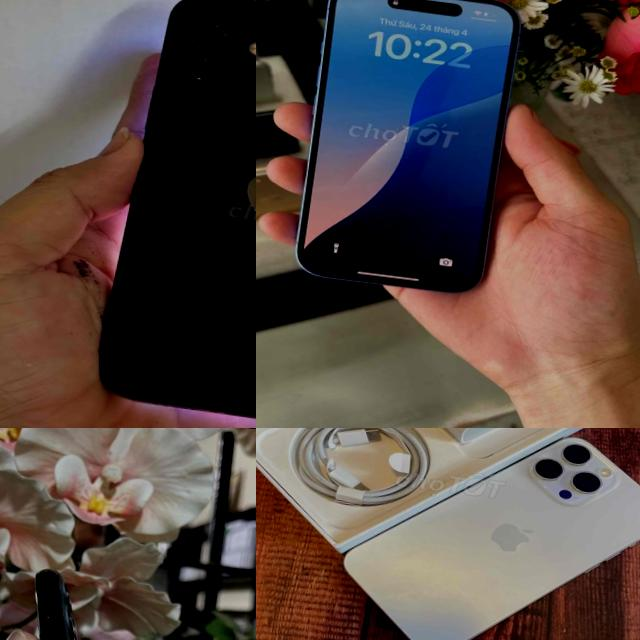gen_12_13: (87, 0, 256, 428)
gen_15: (327, 428, 640, 640)
gen_16: (296, 0, 520, 291)
